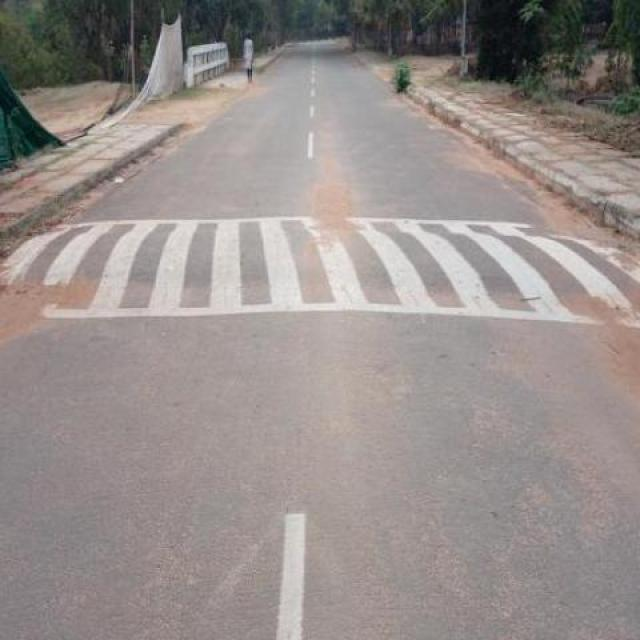Speed Bump: (0, 217, 639, 319)
